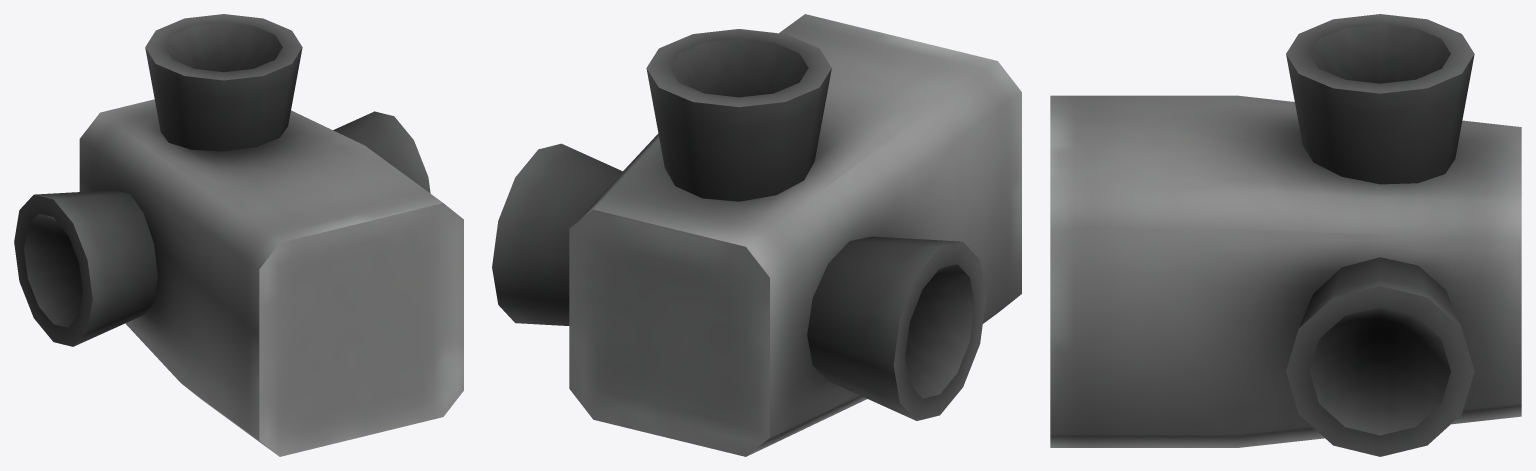
The model's file is octans_rcs_srf_3.obj.
3 views of the same model, side by side, from view 1: azimuth 30°, elevation 25°; view 2: azimuth 150°, elevation 25°; view 3: azimuth 270°, elevation 25° (orthographic). The views are drawn at different scales.
Parts seen in each view (by area): view 1: mesh; view 2: mesh; view 3: mesh.
Part boxes in pixels (<box>): mesh: <box>14,14,463,456</box>; mesh: <box>492,14,1021,456</box>; mesh: <box>1050,14,1521,456</box>.
Size of the model in its own units: 0.125 by 0.1013 by 0.125.
Materials: 1 (1 with a texture image).
